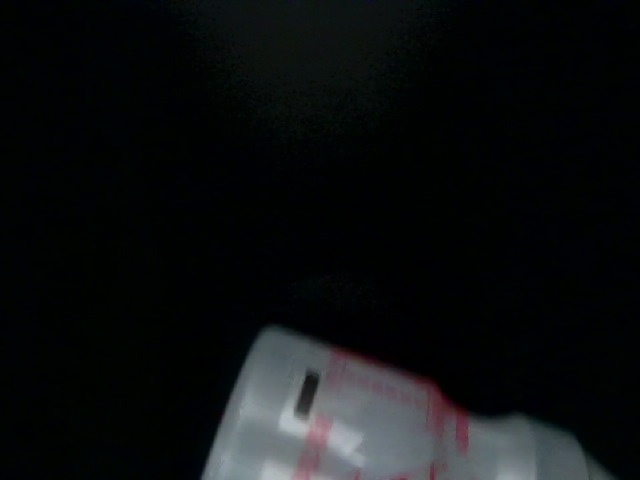CYLJ: (465, 1, 639, 357)
